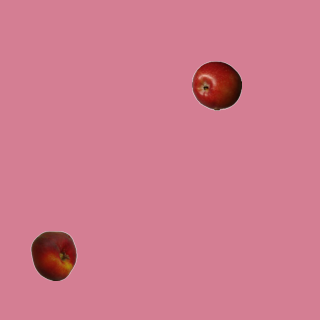Apple Braeburn: (191, 60, 241, 110)
Nectarine Flat: (28, 230, 78, 280)
